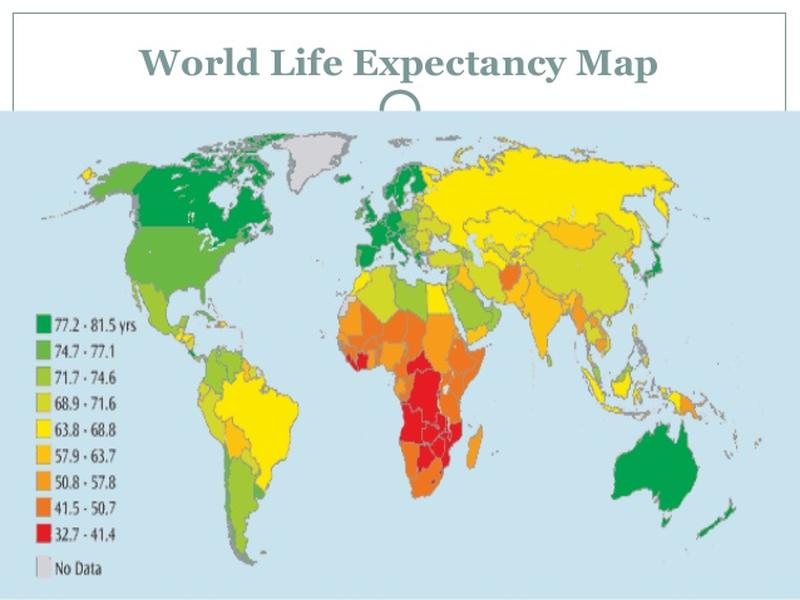legend: (33, 310, 139, 579)
